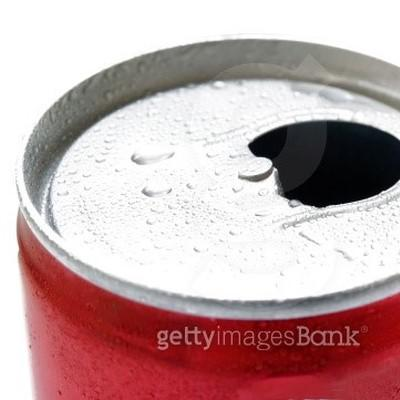beer: (15, 38, 400, 399)
